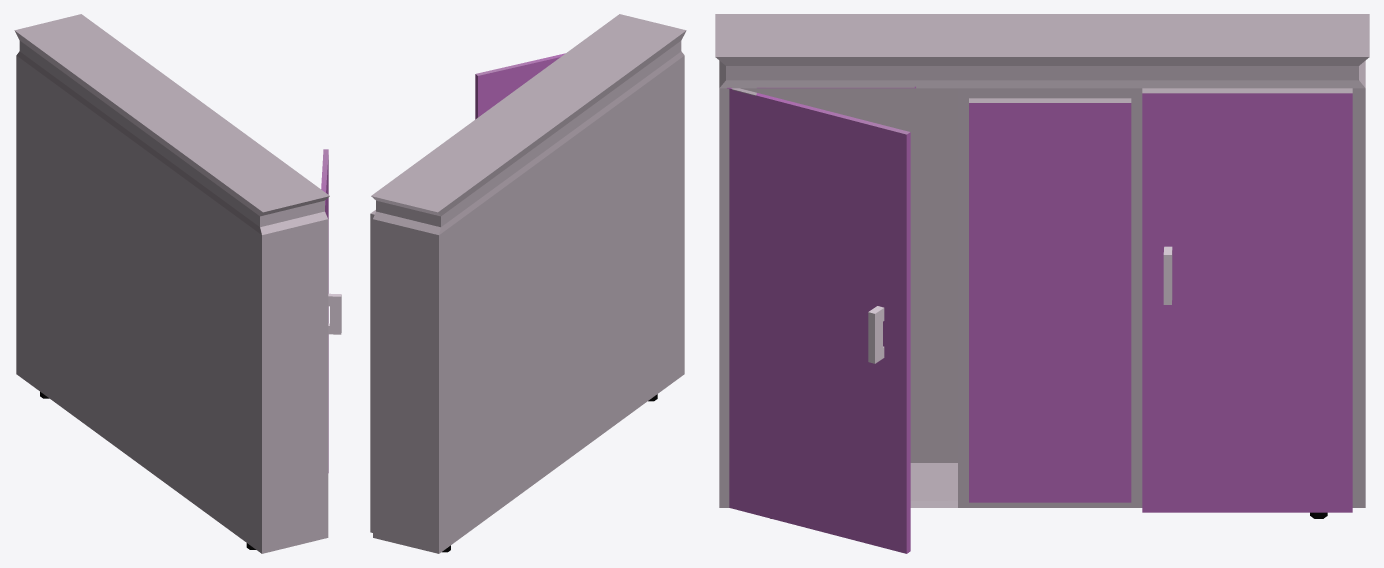
Rendered from Dolap.fbx.
The picture shows the model from 3 angles, left to right: view 1: azimuth 30°, elevation 25°; view 2: azimuth 150°, elevation 25°; view 3: azimuth 270°, elevation 25°; orthographic projection. The views are drawn at different scales.
Visible parts, largest first — view 1: Cube; view 2: Cube; view 3: Cube.
Part boxes in pixels (x1,y1,x2,y2): Cube: (14,14,341,553); Cube: (370,14,686,553); Cube: (715,14,1369,553).
Size of the model in its own units: 420 by 1024 by 1301.
